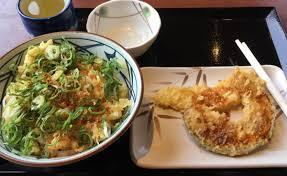pumpkin: (188, 103, 279, 156)
